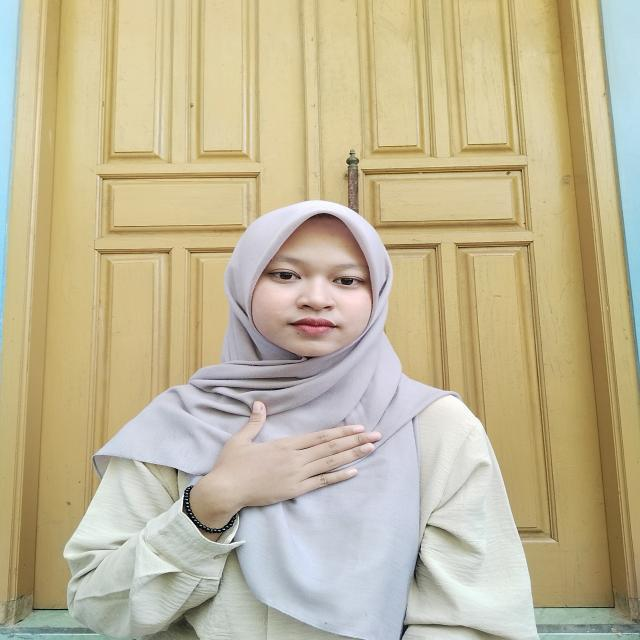tolong: (173, 399, 382, 544)
